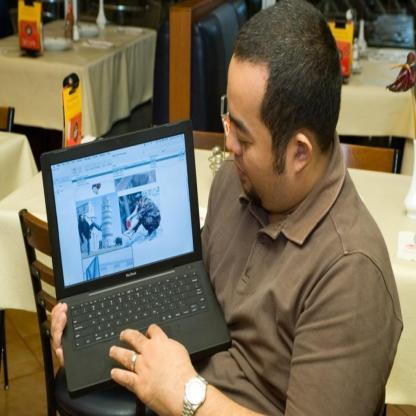board: (39, 118, 232, 398)
